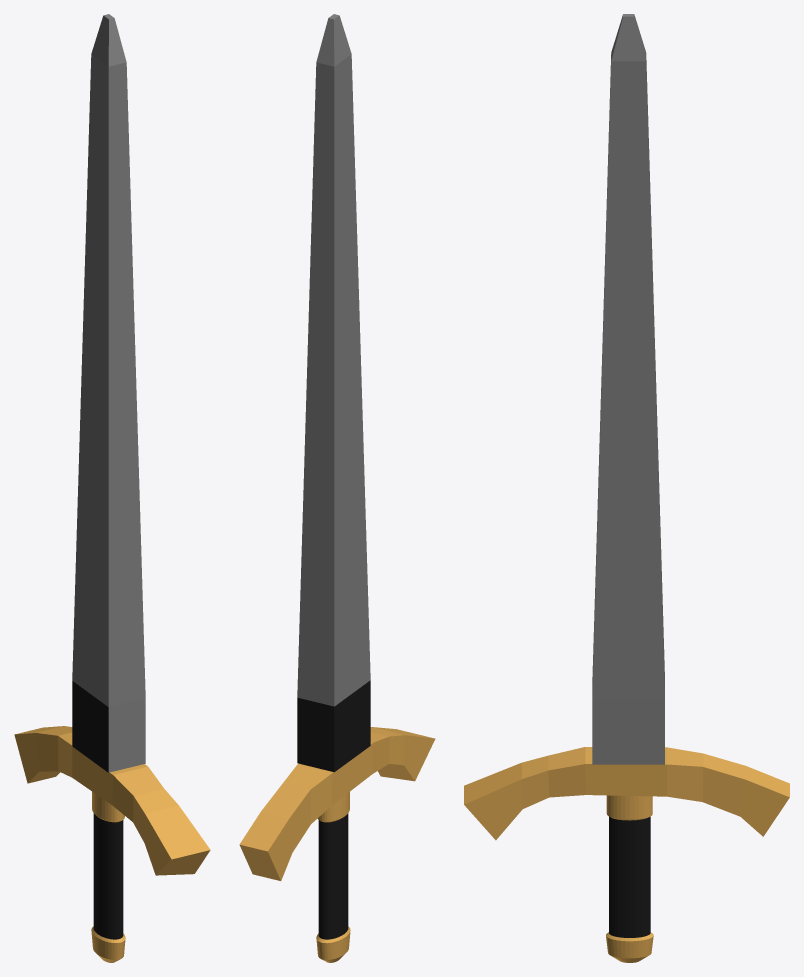
The model's file is weapon_3.fbx.
The picture shows the model from 3 angles, left to right: view 1: azimuth 30°, elevation 25°; view 2: azimuth 150°, elevation 25°; view 3: azimuth 270°, elevation 25°; orthographic projection.
Parts seen in each view (by area): view 1: Cylindre; view 2: Cylindre; view 3: Cylindre.
Boxes of the visible parts, box(x1,y1,x2,y2) form: Cylindre: box(14, 14, 210, 962); Cylindre: box(239, 14, 435, 962); Cylindre: box(464, 14, 789, 962).
Bounding box in the file's own units: 22.42 × 518 × 162.
